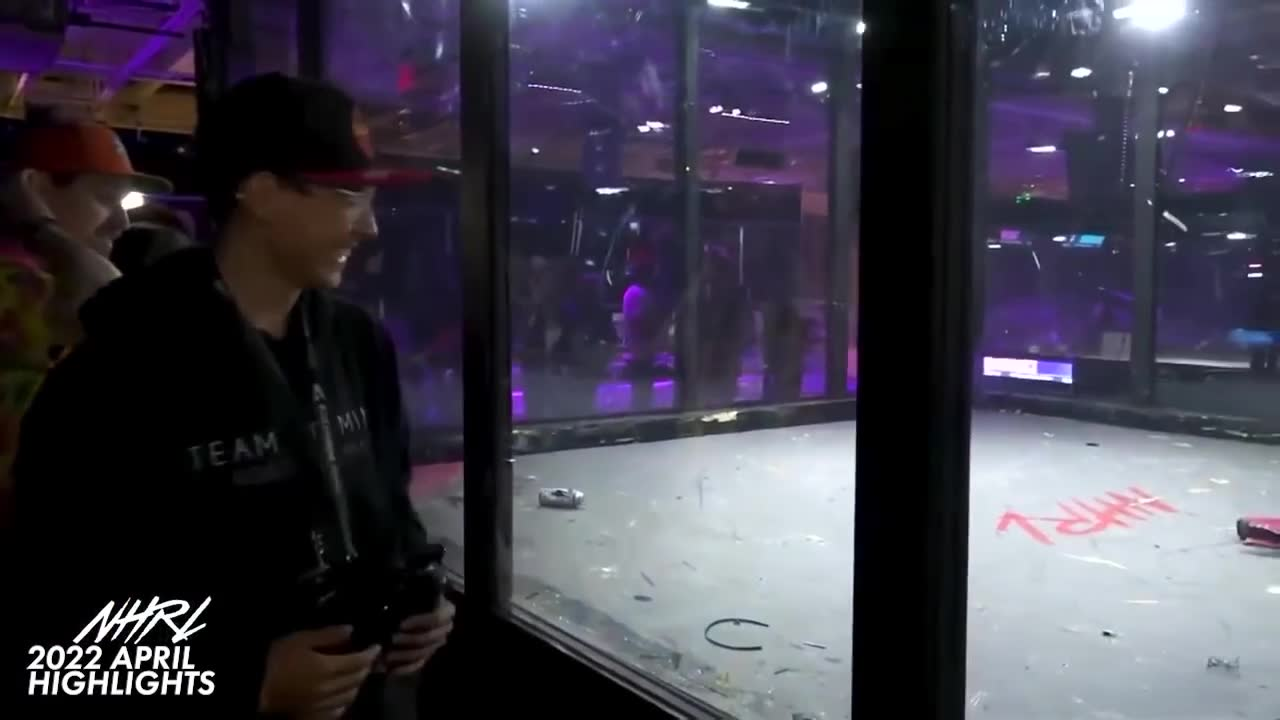belt: (698, 617, 772, 653)
combatbot: (1232, 514, 1280, 554), (537, 487, 586, 511)
